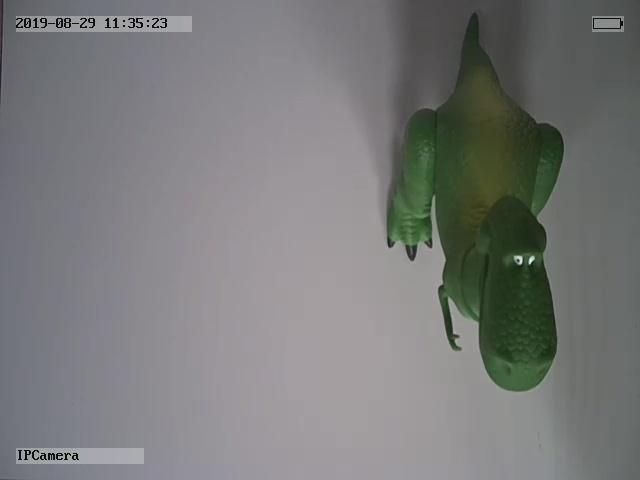rex: (386, 13, 565, 394)
